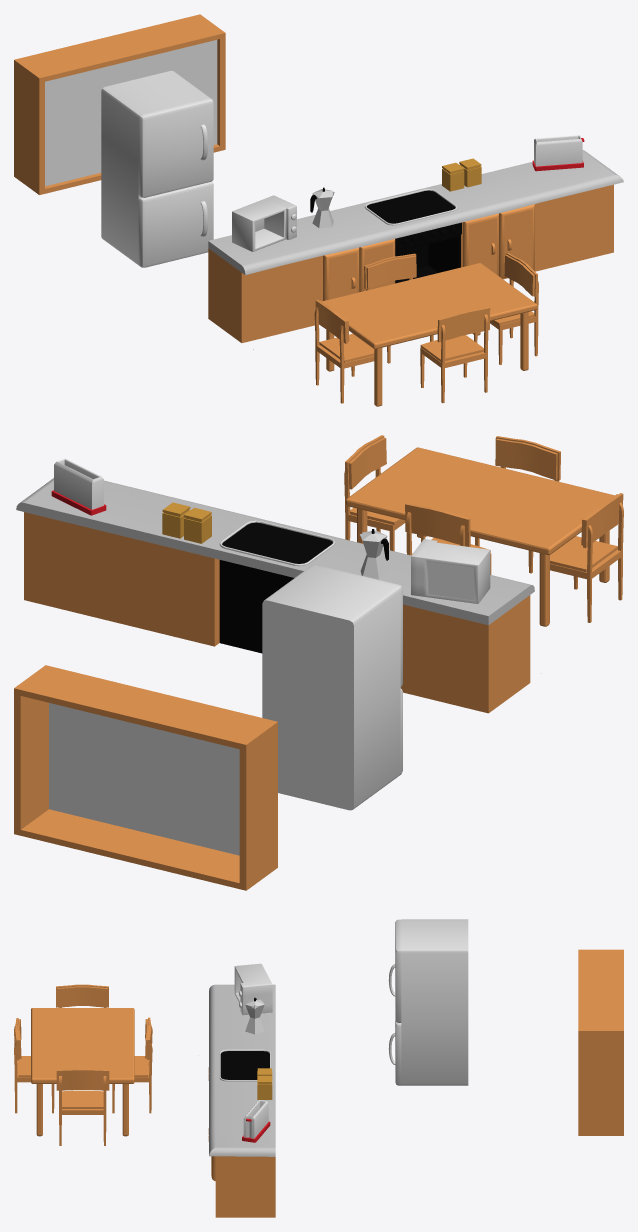
File: CosasCocina.fbx
3 views of the same model, one above another, from view 1: azimuth 30°, elevation 25°; view 2: azimuth 150°, elevation 25°; view 3: azimuth 270°, elevation 25° (orthographic). The views are drawn at different scales.
Visible parts, largest first — view 1: Encimera.001, VentanaCocina.002, PuertaFrigo.001, MesaCocinaSimple, Frigorifico.001, Silla2.007, Microondas.001, Silla2.006, Horno.001, Vitro.001, Silla2.005, Tostadora.001 (+3 smaller); view 2: VentanaCocina.002, Encimera.001, Frigorifico.001, MesaCocinaSimple, Microondas.001, Horno.001, Silla2.006, Vitro.001, Silla2.005, Silla2.008, Silla2.007, Tostadora.001 (+3 smaller); view 3: Encimera.001, Frigorifico.001, VentanaCocina.002, MesaCocinaSimple, Silla2.005, Vitro.001, Microondas.001, PuertaFrigo.001, Silla2.006, Silla2.008, Silla2.007, Tostadora.001 (+2 smaller).
Boxes of the visible parts, box(x1,y1,x2,y2) form: Encimera.001: box(208, 150, 623, 342); VentanaCocina.002: box(14, 14, 225, 194); PuertaFrigo.001: box(138, 98, 213, 267); MesaCocinaSimple: box(322, 263, 537, 406); Frigorifico.001: box(101, 70, 210, 265); Silla2.007: box(420, 307, 490, 403); Microondas.001: box(232, 195, 296, 251); Silla2.006: box(314, 299, 374, 403); Horno.001: box(395, 222, 461, 283); Vitro.001: box(364, 189, 457, 225); Silla2.005: box(474, 253, 538, 364); Tostadora.001: box(532, 135, 584, 171); VentanaCocina.002: box(14, 665, 277, 890); Encimera.001: box(16, 478, 534, 713); Frigorifico.001: box(262, 566, 400, 810); MesaCocinaSimple: box(346, 447, 614, 626); Microondas.001: box(411, 539, 490, 603); Horno.001: box(219, 560, 294, 653); Silla2.006: box(550, 493, 623, 622); Vitro.001: box(219, 520, 335, 566); Silla2.005: box(344, 435, 425, 551); Silla2.008: box(405, 503, 491, 574); Silla2.007: box(475, 436, 560, 573); Tostadora.001: box(51, 458, 106, 515); Encimera.001: box(208, 984, 275, 1217); Frigorifico.001: box(401, 919, 468, 1085); VentanaCocina.002: box(578, 949, 623, 1135); MesaCocinaSimple: box(31, 1008, 134, 1136); Silla2.005: box(56, 1069, 109, 1145); Vitro.001: box(219, 1049, 271, 1081); Microondas.001: box(234, 963, 272, 1015); PuertaFrigo.001: box(388, 919, 401, 1085); Silla2.006: box(56, 984, 108, 1007); Silla2.008: box(112, 1017, 152, 1113); Silla2.007: box(14, 1018, 54, 1113); Tostadora.001: box(242, 1100, 270, 1142).
Size of the model in its own units: 1017 by 391 by 1582.
